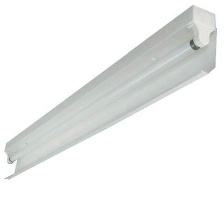light_bulb: (7, 36, 203, 164)
